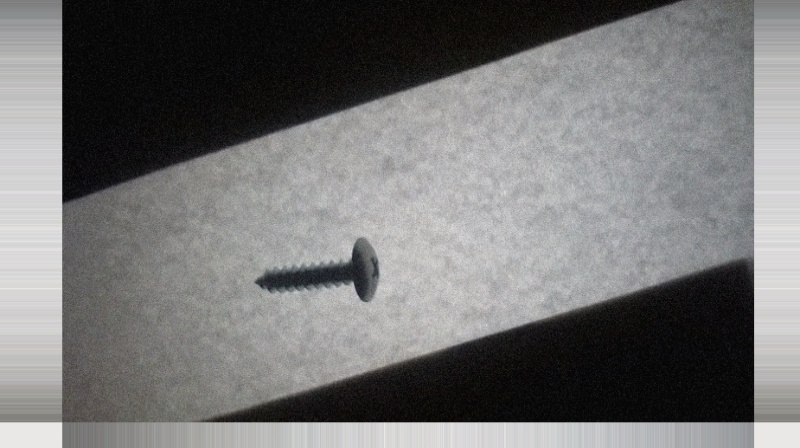S003: (250, 235, 382, 304)
